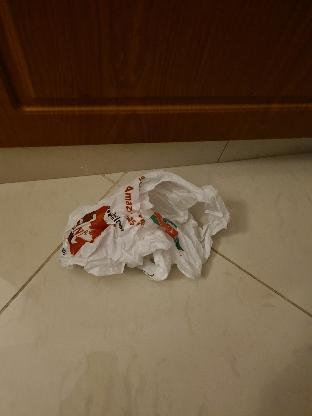Plastic Bag: (56, 177, 238, 281)
